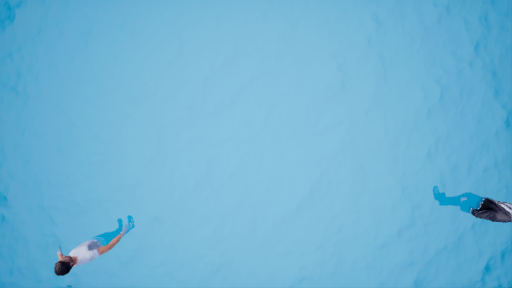person: (41, 207, 143, 275), (425, 180, 512, 233)
